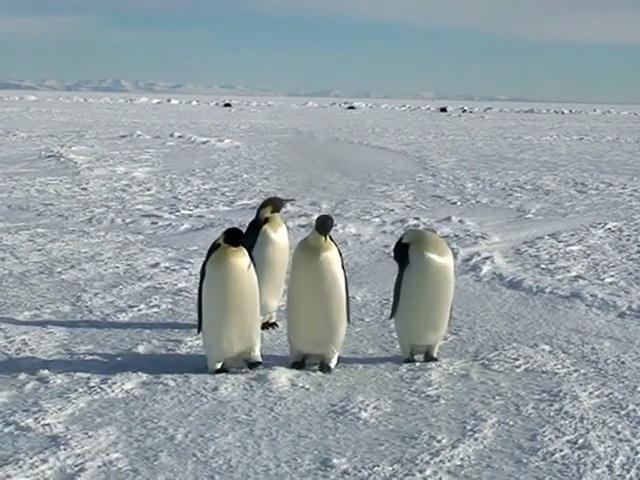animal: (390, 229, 454, 362)
